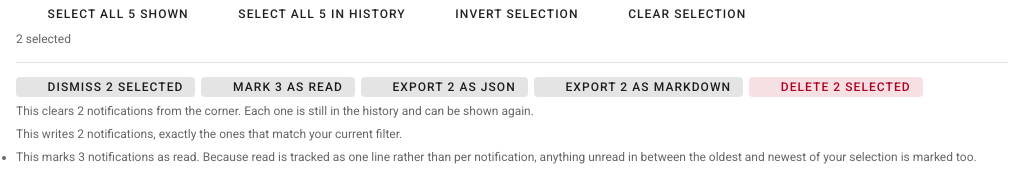
dismiss › clears only the selected ids off the corner, leaves the history, and reports what happened
The image size is (1024, 181).
Click the button "Dismiss 2 selected": (106, 87) [16, 77, 196, 97]
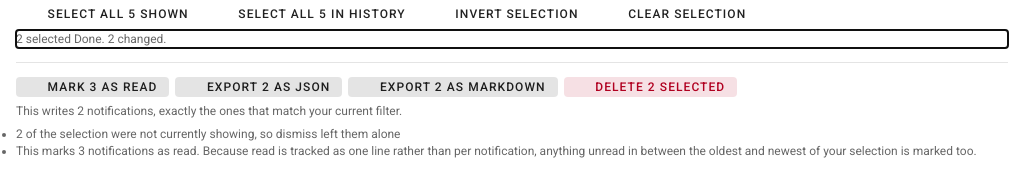
Expected: the text "Done. 2 changed." is shown, [74, 32, 167, 46]
